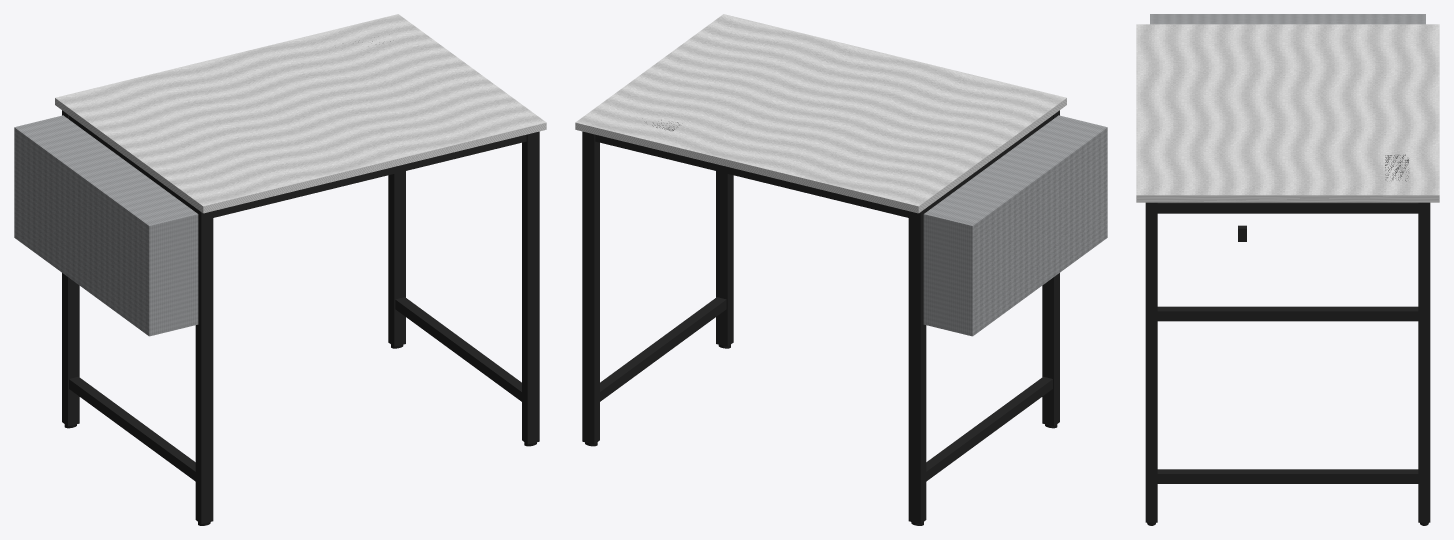
3 views of the same model, side by side, from view 1: azimuth 30°, elevation 25°; view 2: azimuth 150°, elevation 25°; view 3: azimuth 270°, elevation 25° (orthographic). The views are drawn at different scales.
Parts seen in each view (by area): view 1: 1 tabletop, 17 storage_bag, 3 front_left_leg, 5 front_right_leg, 6 back_right_leg, 4 back_left_leg, 11 left_lower_stretcher, 12 right_lower_stretcher, 9 front_apron_bar, 7 left_apron_bar; view 2: 1 tabletop, 17 storage_bag, 4 back_left_leg, 6 back_right_leg, 5 front_right_leg, 3 front_left_leg, 11 left_lower_stretcher, 12 right_lower_stretcher, 10 back_apron_bar, 7 left_apron_bar; view 3: 1 tabletop, 11 left_lower_stretcher, 5 front_right_leg, 6 back_right_leg, 12 right_lower_stretcher, 8 right_apron_bar, 17 storage_bag.
Part boxes in pixels (left/top/right/bottom): 1 tabletop: left=55, top=14, right=546, bottom=213; 17 storage_bag: left=14, top=115, right=198, bottom=336; 3 front_left_leg: left=195, top=208, right=213, bottom=523; 5 front_right_leg: left=522, top=131, right=539, bottom=444; 6 back_right_leg: left=388, top=171, right=405, bottom=346; 4 back_left_leg: left=62, top=110, right=79, bottom=426; 11 left_lower_stretcher: left=69, top=376, right=195, bottom=481; 12 right_lower_stretcher: left=395, top=297, right=521, bottom=401; 9 front_apron_bar: left=213, top=134, right=526, bottom=217; 7 left_apron_bar: left=69, top=115, right=195, bottom=211; 1 tabletop: left=575, top=14, right=1066, bottom=213; 17 storage_bag: left=923, top=115, right=1107, bottom=336; 4 back_left_leg: left=908, top=208, right=926, bottom=523; 6 back_right_leg: left=582, top=131, right=599, bottom=444; 5 front_right_leg: left=716, top=171, right=733, bottom=346; 3 front_left_leg: left=1042, top=110, right=1059, bottom=426; 11 left_lower_stretcher: left=926, top=376, right=1052, bottom=481; 12 right_lower_stretcher: left=600, top=297, right=726, bottom=401; 10 back_apron_bar: left=595, top=134, right=908, bottom=217; 7 left_apron_bar: left=926, top=115, right=1052, bottom=211; 1 tabletop: left=1136, top=24, right=1439, bottom=202; 11 left_lower_stretcher: left=1157, top=306, right=1418, bottom=321; 5 front_right_leg: left=1145, top=202, right=1157, bottom=522; 6 back_right_leg: left=1418, top=202, right=1430, bottom=522; 12 right_lower_stretcher: left=1157, top=469, right=1418, bottom=483; 8 right_apron_bar: left=1157, top=202, right=1418, bottom=213; 17 storage_bag: left=1150, top=14, right=1425, bottom=24.
Size of the model in its own units: 1.26 by 1 by 0.8276.
4 materials, 2 textured.
